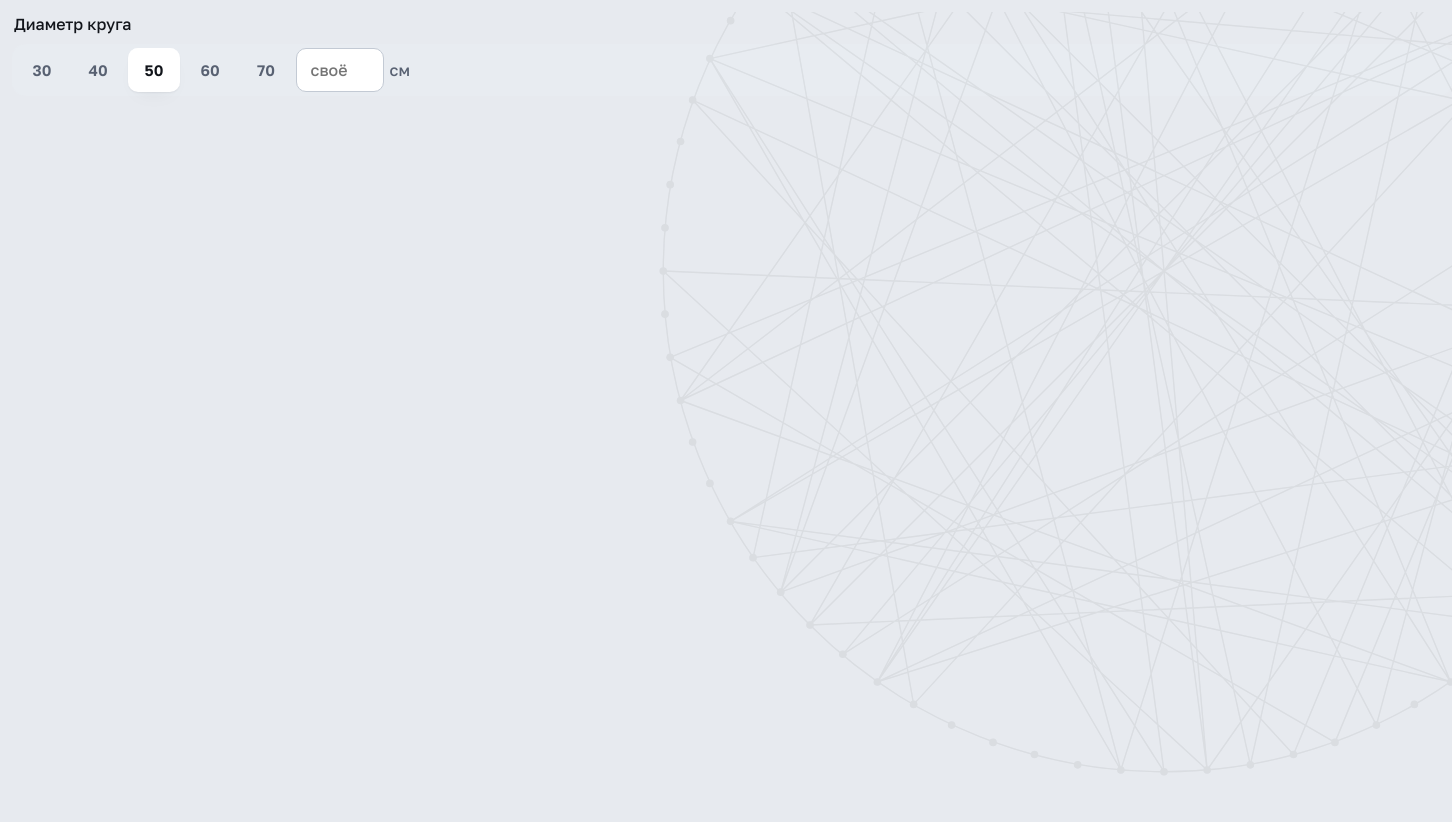
Test: DiameterPicker › невалидное 151 показывает ошибку и не уходит наружу
The image size is (1452, 822).
# Вводим значение
Type "151" into the field named "Свой диаметр, см" at (340, 70), box [296,48,384,92]
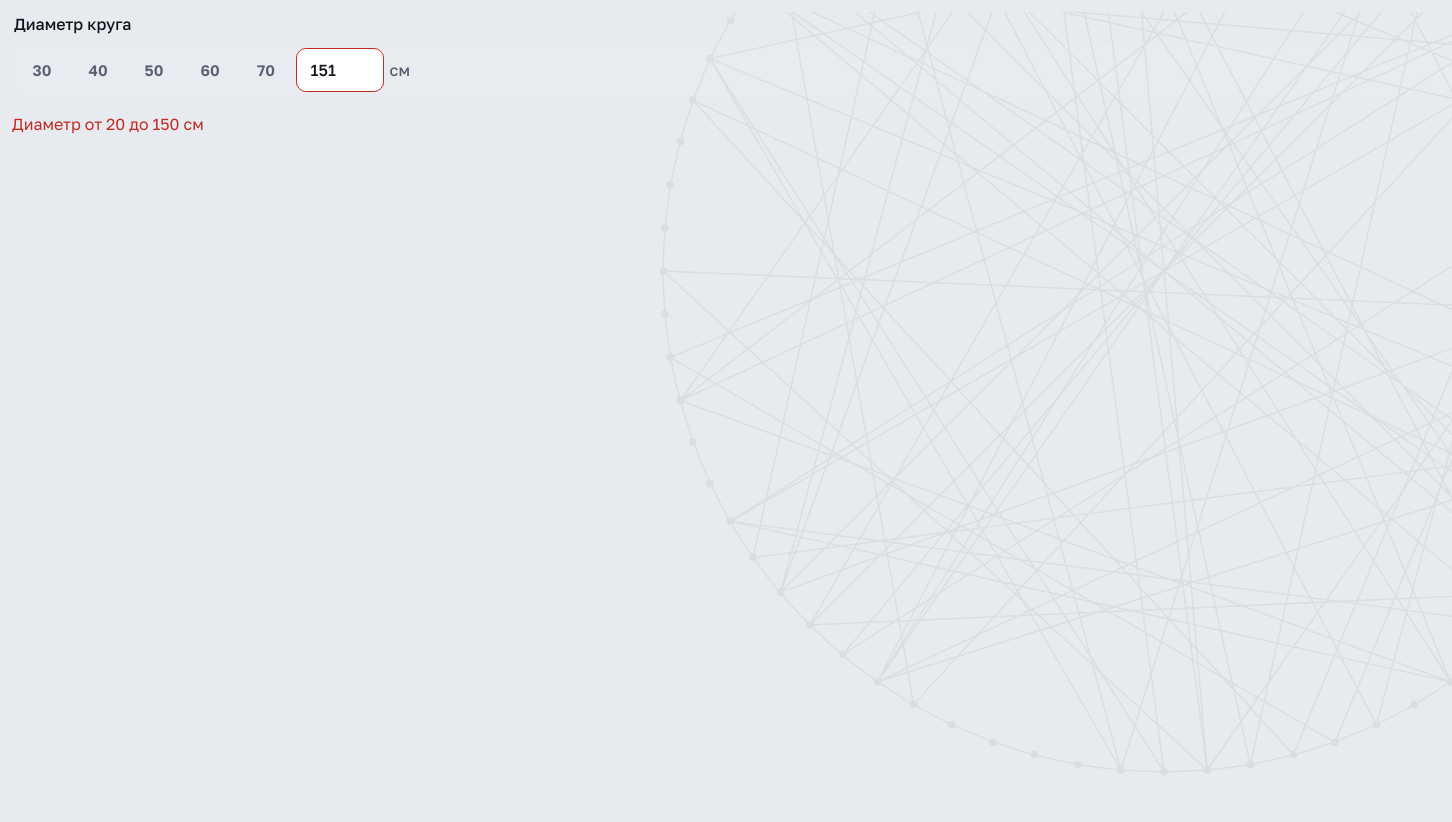
Result: the message reads "Диаметр от 20 до 150 см" at [12,114,204,134]
